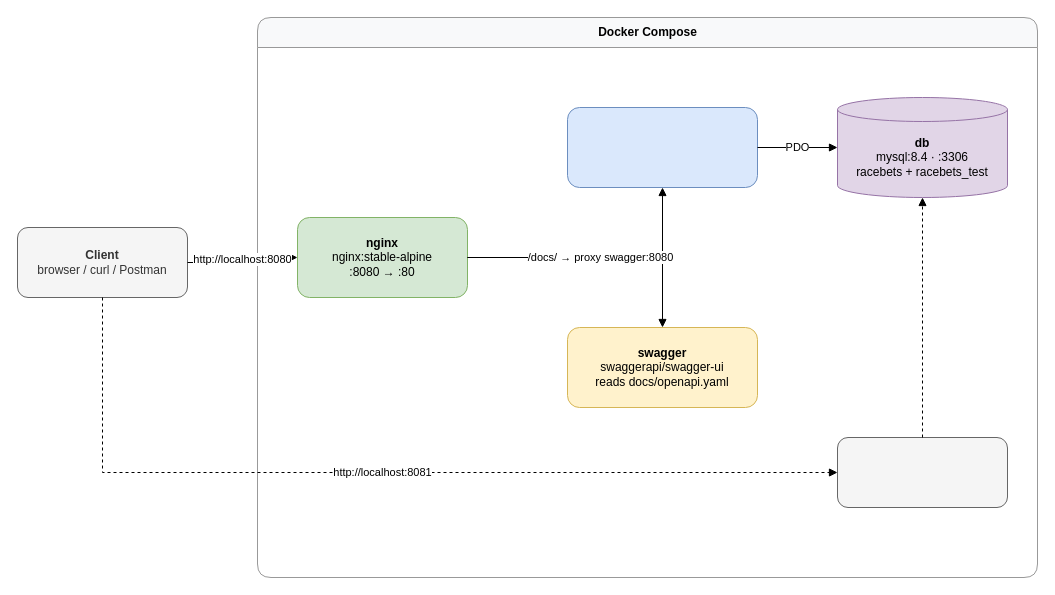
This 1055x595 diagram has some shape labels left out. The shapes that lost their labels are listed below. From the top down, each one's centre as x and y in pixels, then its label:
the point at 662,147: app php:8.5-fpm + Symfony 7.4 pm.max_children = 10
the point at 922,472: adminer :8081 → :8080
